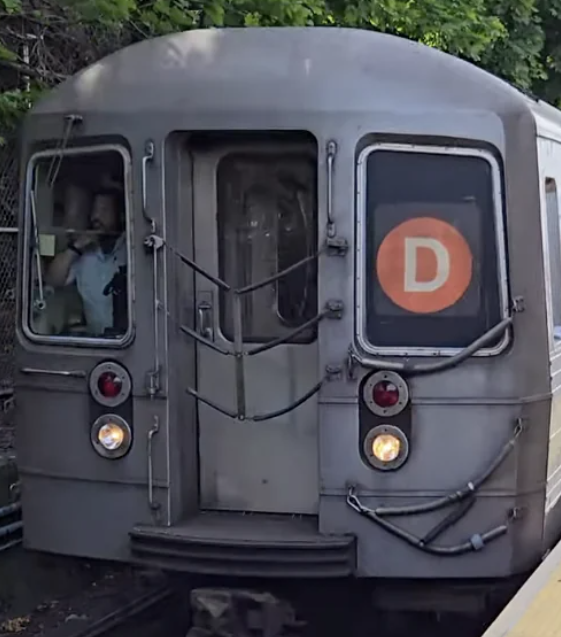train: (21, 20, 559, 553)
